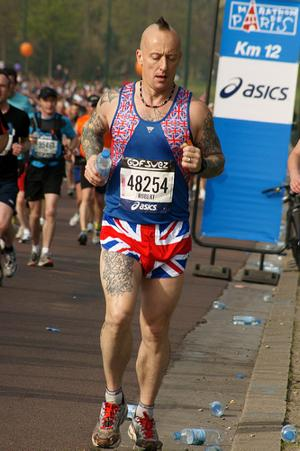person: (81, 17, 227, 450)
